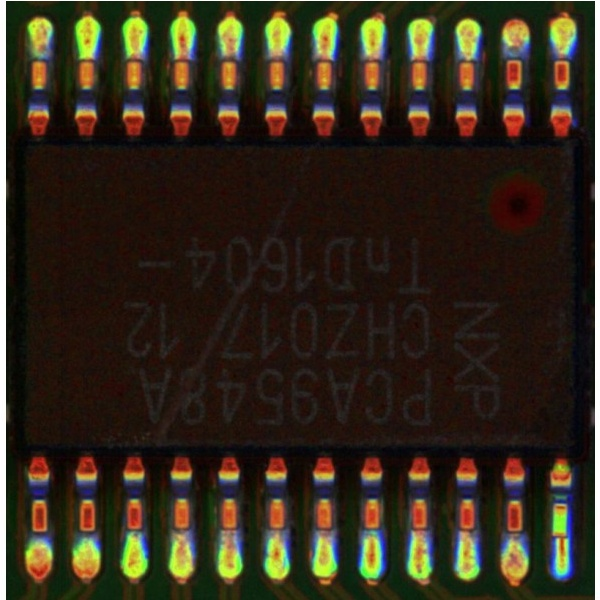Bad_podu: (268, 40, 285, 69), (174, 42, 187, 74), (127, 43, 141, 72), (411, 39, 424, 70), (222, 40, 235, 71), (32, 43, 45, 72), (317, 40, 330, 69), (269, 516, 282, 544), (223, 515, 235, 545), (176, 516, 187, 548), (461, 42, 472, 71), (413, 519, 424, 546), (318, 518, 329, 545), (462, 518, 472, 547), (554, 525, 565, 546)
